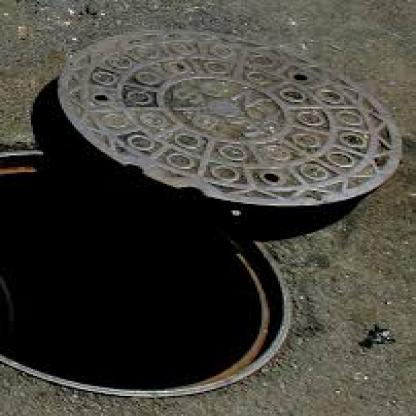open manhole-not overflowing-: (0, 32, 407, 407)
